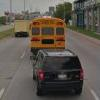Bus: (26, 13, 68, 47)
